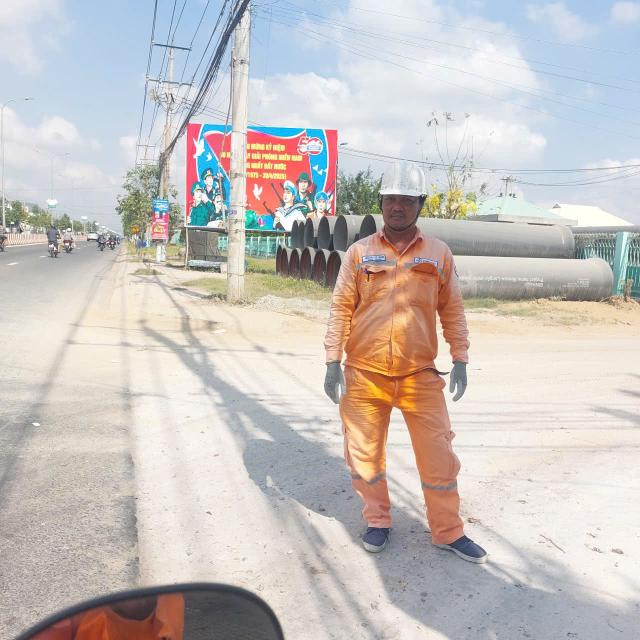gloves: (319, 358, 361, 419), (432, 358, 480, 403)
helmet: (367, 147, 441, 218)
shoes: (439, 521, 496, 570), (352, 506, 390, 569)
